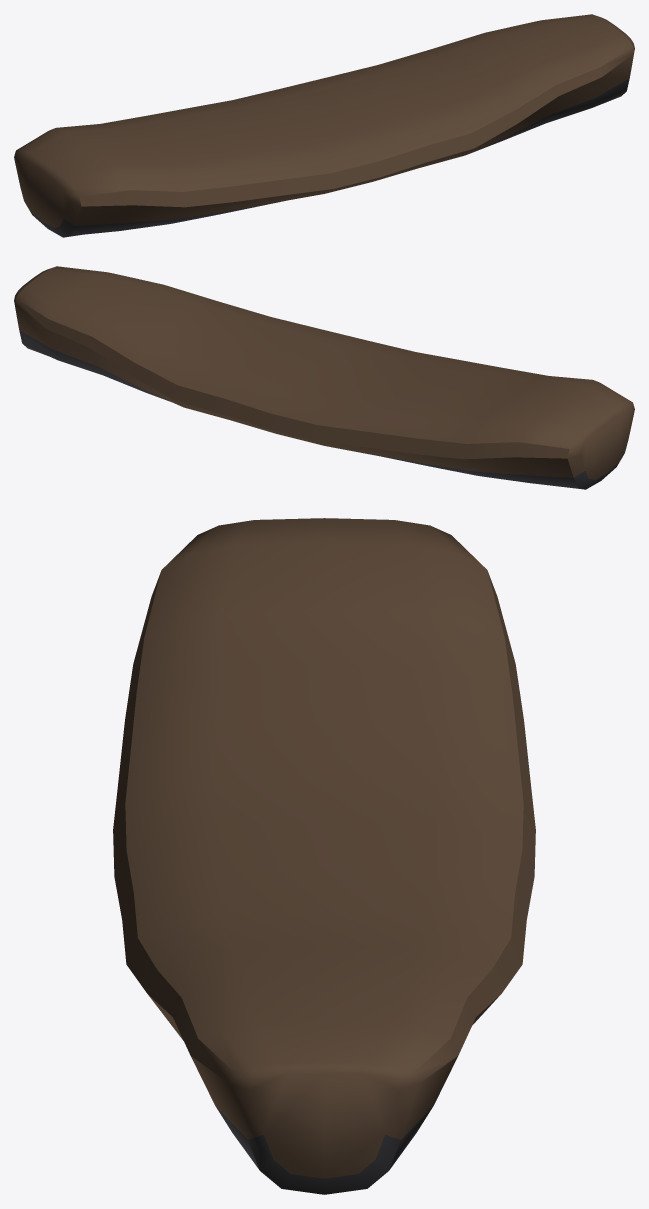
The model's file is gunfighter_lod1.glb.
3 views of the same model, one above another, from view 1: azimuth 30°, elevation 25°; view 2: azimuth 150°, elevation 25°; view 3: azimuth 270°, elevation 25° (orthographic). The views are drawn at different scales.
Parts seen in each view (by area): view 1: gunfighter_lod1; view 2: gunfighter_lod1; view 3: gunfighter_lod1.
Boxes of the visible parts, bbox=[...] form: gunfighter_lod1: bbox=[14, 14, 634, 237]; gunfighter_lod1: bbox=[14, 266, 634, 489]; gunfighter_lod1: bbox=[113, 518, 535, 1194].
Size of the model in its own units: 1 by 0.1194 by 0.3187.
